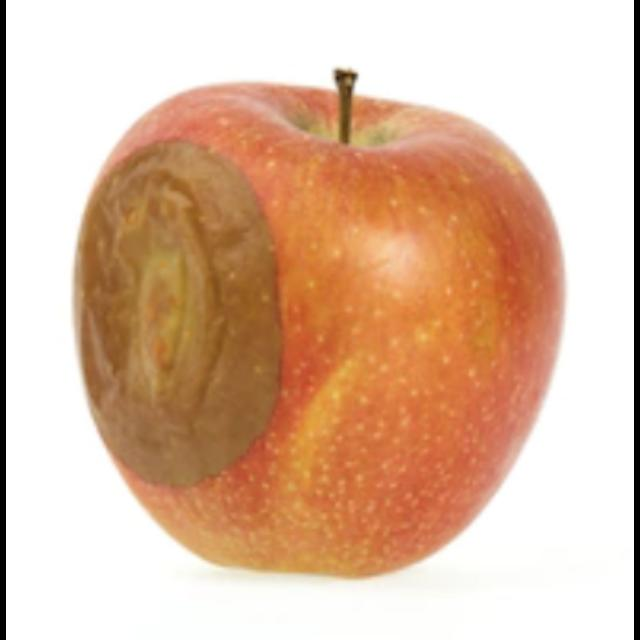Apel Tidak Segar: (58, 41, 580, 593)
